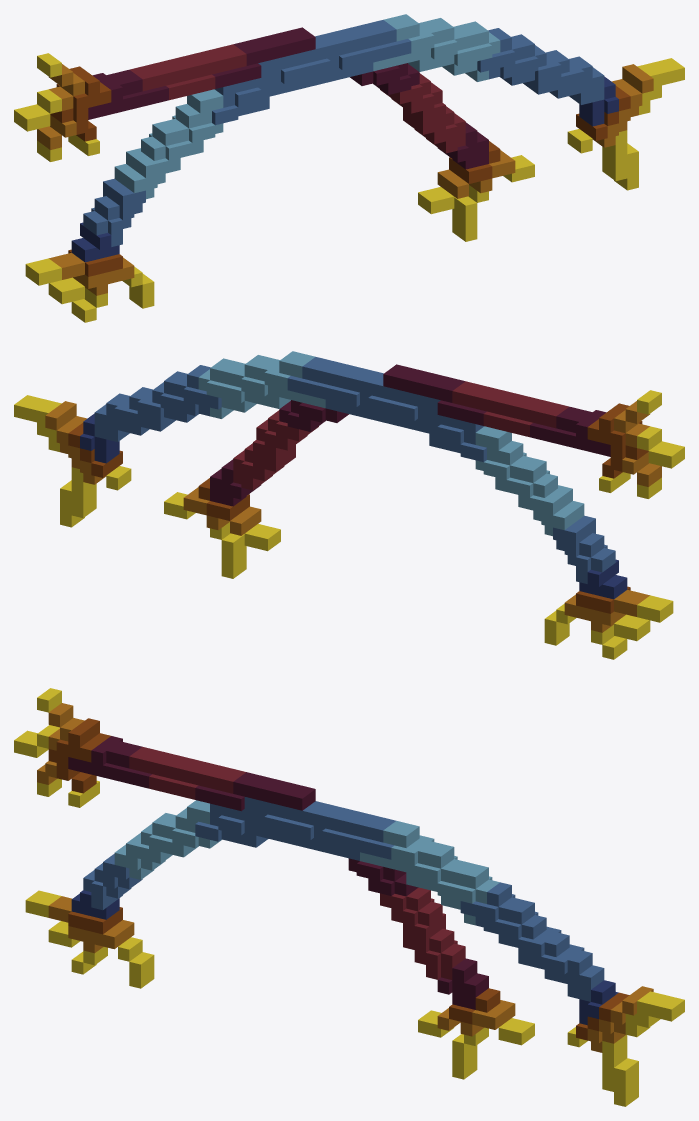
File: kablo.fbx
The picture shows the model from 3 angles, top to bottom: view 1: azimuth 30°, elevation 25°; view 2: azimuth 150°, elevation 25°; view 3: azimuth 330°, elevation 25°; orthographic projection.
Visible parts, largest first — view 1: generated; view 2: generated; view 3: generated.
Part boxes in pixels (box(x1,y1,x2,y2)): generated: box(14, 14, 684, 322); generated: box(14, 351, 684, 659); generated: box(14, 688, 684, 1106).
Size of the model in its own units: 570 by 230 by 30.
